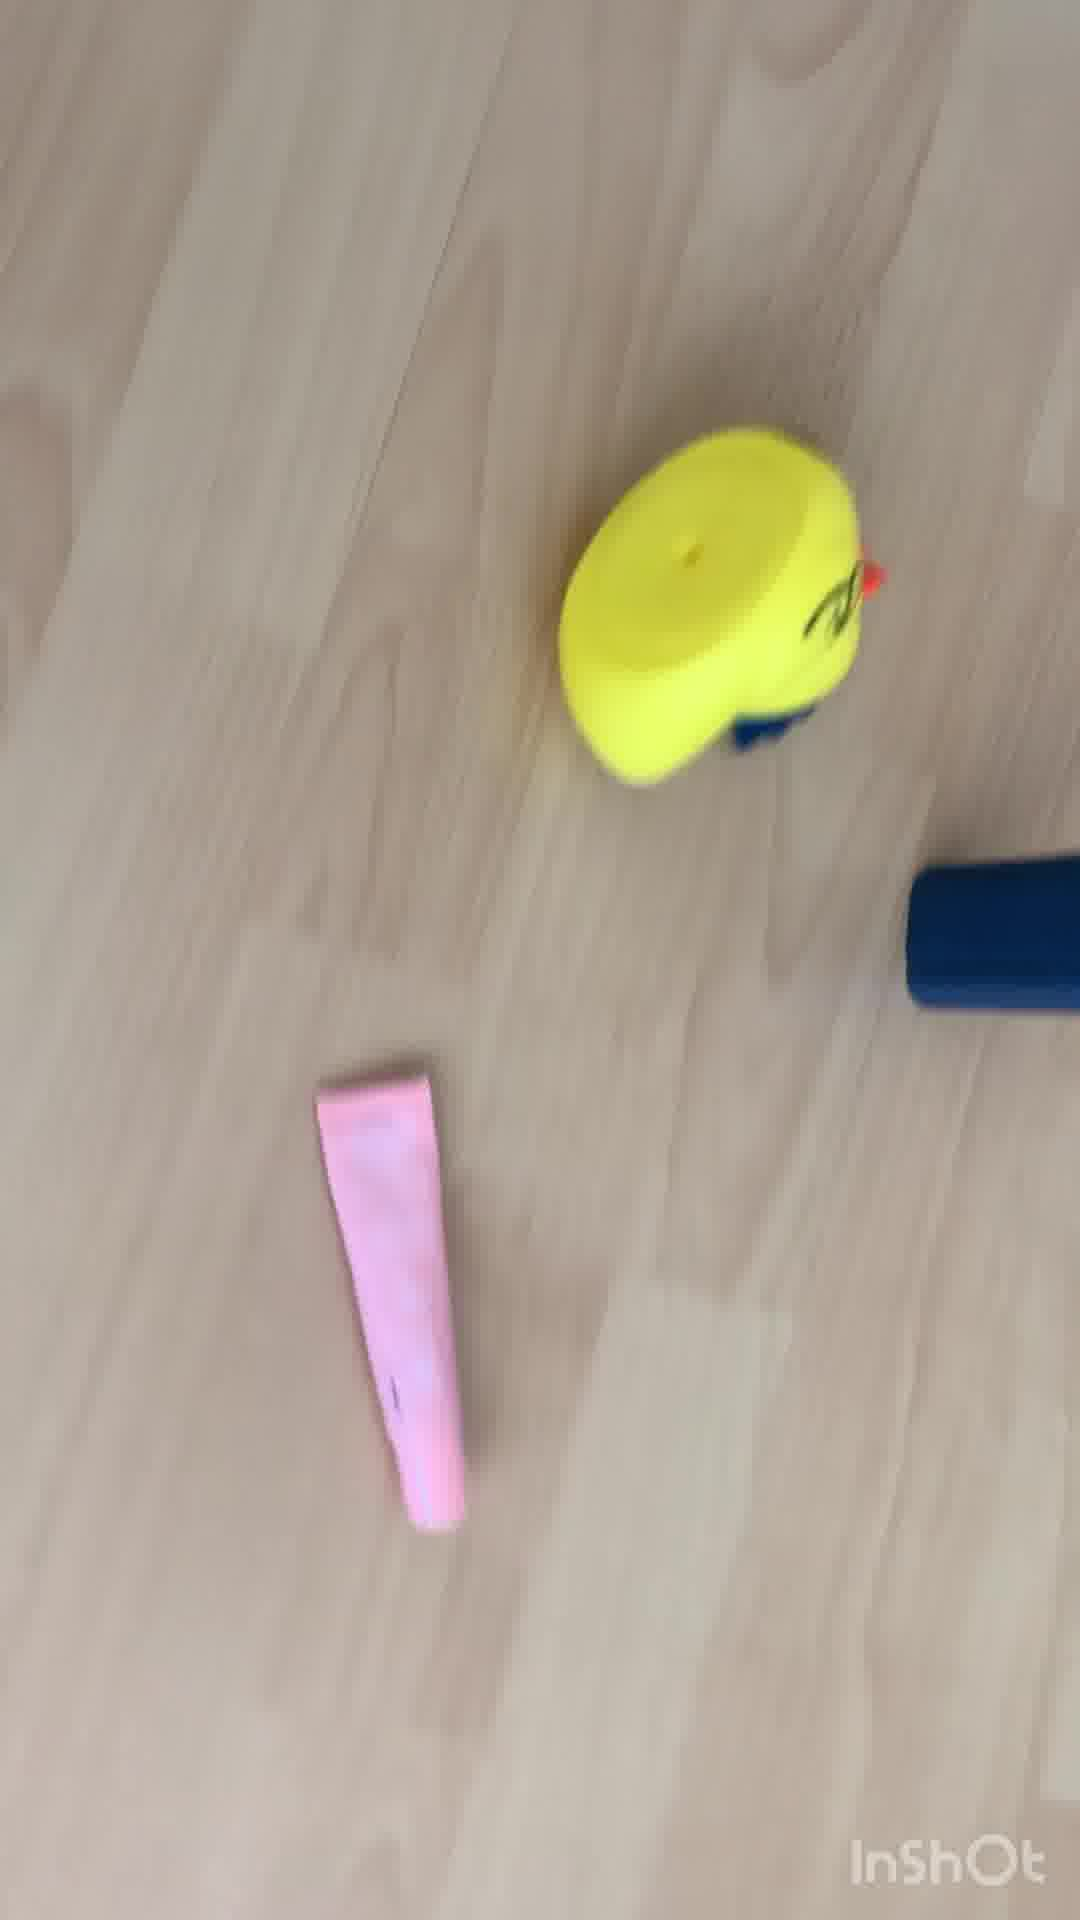duck: (546, 405, 890, 804)
glo: (891, 841, 1080, 1026)
lip balm: (313, 1059, 467, 1545)
